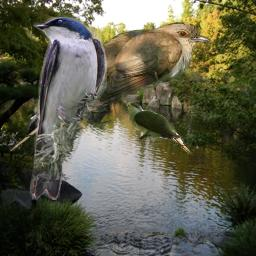Cuckoo: (9, 21, 213, 153), (123, 101, 194, 155)
Swallow: (27, 15, 107, 200)
